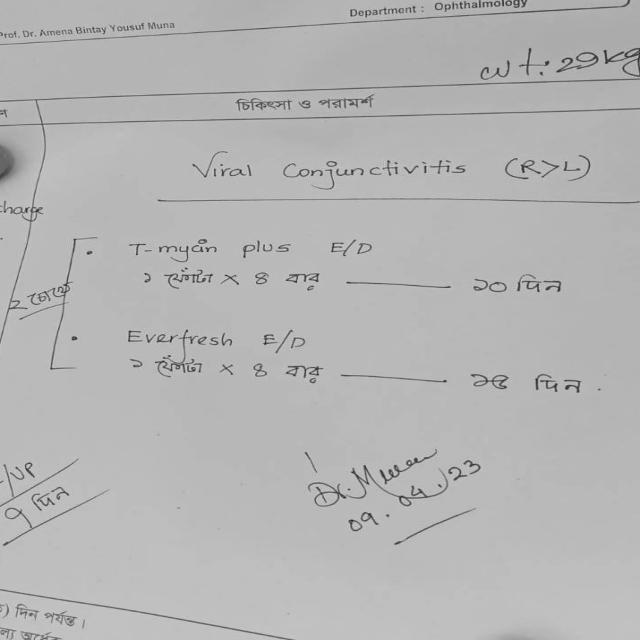medicine: (121, 234, 301, 264), (124, 324, 242, 352)
